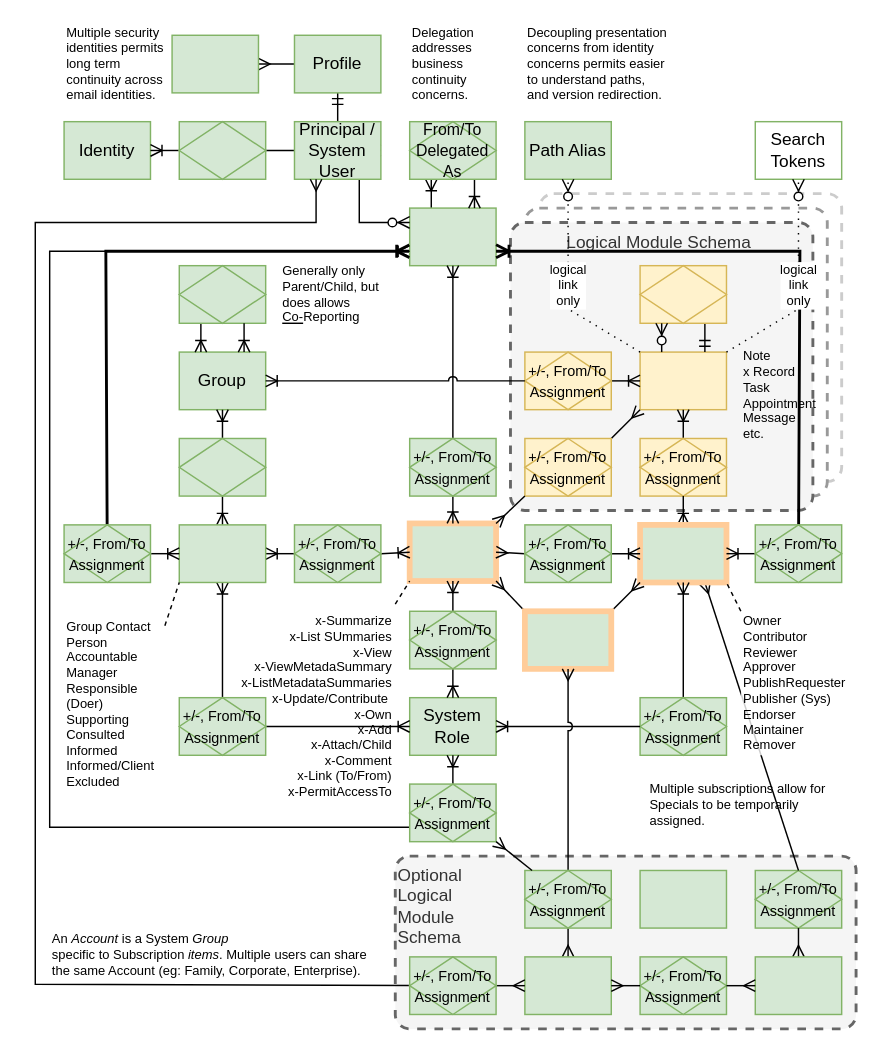
This 883x1054 diagram has some shape labels left out. The shapes that lost their labels are listed below. From the top down, each one's centre as x and y in pixels, then its label:
At (x=214, y=63): "Profile Setting".
At (x=222, y=149): "From/To Assignment".
At (x=452, y=236): "Security Profile".
At (x=222, y=293): "Association".
At (x=682, y=293): "Link to Previous Version(s)".
At (x=682, y=380): "Module Defined Item (x)".
At (x=222, y=466): "+/-m From/To Assignment".
At (x=222, y=552): "Group Role Definition".
At (x=452, y=551): "Module Defined System Permission".
At (x=682, y=553): "Module Defined Item System Role".
At (x=567, y=639): "Module Definition".
At (x=682, y=898): "Subscription Type & Terms".
At (x=567, y=984): "Account".
At (x=798, y=984): "Subscription".
